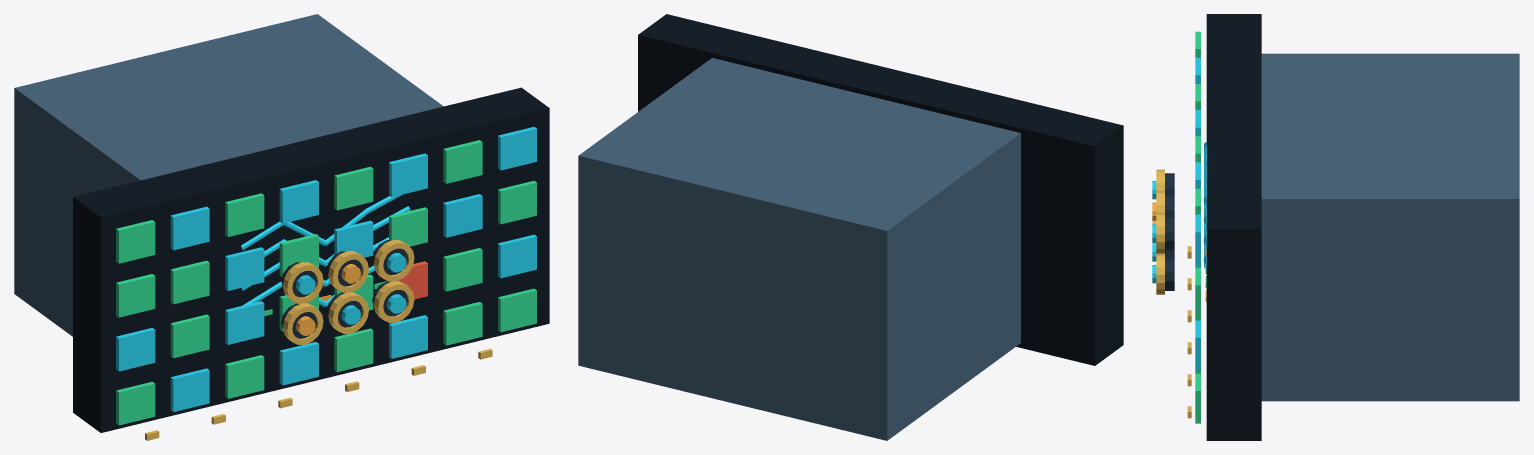
The model's file is 19_L81_ECCSyndromeDetectionEngine.fbx.
3 renders of one model, left to right at view 1: azimuth 30°, elevation 25°; view 2: azimuth 150°, elevation 25°; view 3: azimuth 270°, elevation 25°, orthographic. The views are drawn at different scales.
Parts seen in each view (by area): view 1: ECCSyndromeDetectionEngine_Part_0051, ECCSyndromeDetectionEngine, ECCSyndromeDetectionEngine_Part_0058, ECCSyndromeDetectionEngine_Part_0062, ECCSyndromeDetectionEngine_Part_0052, ECCSyndromeDetectionEngine_Part_0069, ECCSyndromeDetectionEngine_Part_0076, ECCSyndromeDetectionEngine_Part_0079, ECCSyndromeDetectionEngine_Part_0082, ECCSyndromeDetectionEngine_Part_0060, ECCSyndromeDetectionEngine_Part_0061, ECCSyndromeDetectionEngine_Part_0066 (+20 smaller); view 2: ECCSyndromeDetectionEngine, ECCSyndromeDetectionEngine_Part_0051; view 3: ECCSyndromeDetectionEngine, ECCSyndromeDetectionEngine_Part_0051.
Boxes of the visible parts, bbox=[...] form: ECCSyndromeDetectionEngine_Part_0051: bbox=[73, 87, 549, 432]; ECCSyndromeDetectionEngine: bbox=[14, 14, 443, 344]; ECCSyndromeDetectionEngine_Part_0058: bbox=[443, 302, 482, 345]; ECCSyndromeDetectionEngine_Part_0062: bbox=[225, 301, 264, 344]; ECCSyndromeDetectionEngine_Part_0052: bbox=[116, 381, 155, 425]; ECCSyndromeDetectionEngine_Part_0069: bbox=[170, 260, 209, 304]; ECCSyndromeDetectionEngine_Part_0076: bbox=[116, 220, 155, 263]; ECCSyndromeDetectionEngine_Part_0079: bbox=[279, 180, 318, 223]; ECCSyndromeDetectionEngine_Part_0082: bbox=[443, 140, 482, 183]; ECCSyndromeDetectionEngine_Part_0060: bbox=[116, 327, 155, 371]; ECCSyndromeDetectionEngine_Part_0061: bbox=[170, 314, 209, 358]; ECCSyndromeDetectionEngine_Part_0066: bbox=[443, 248, 482, 291]; ECCSyndromeDetectionEngine: bbox=[578, 58, 1020, 440]; ECCSyndromeDetectionEngine_Part_0051: bbox=[638, 14, 1123, 365]; ECCSyndromeDetectionEngine: bbox=[1152, 53, 1519, 401]; ECCSyndromeDetectionEngine_Part_0051: bbox=[1206, 14, 1261, 440].
Bounding box in the file's own units: 148 × 71 × 107.
